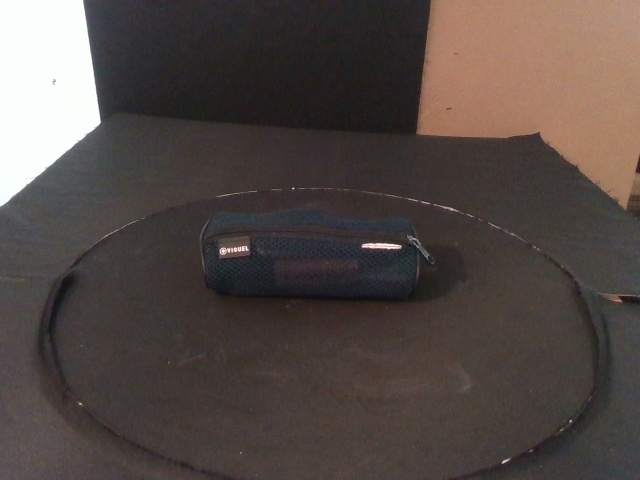pencil_case: (198, 209, 421, 301)
